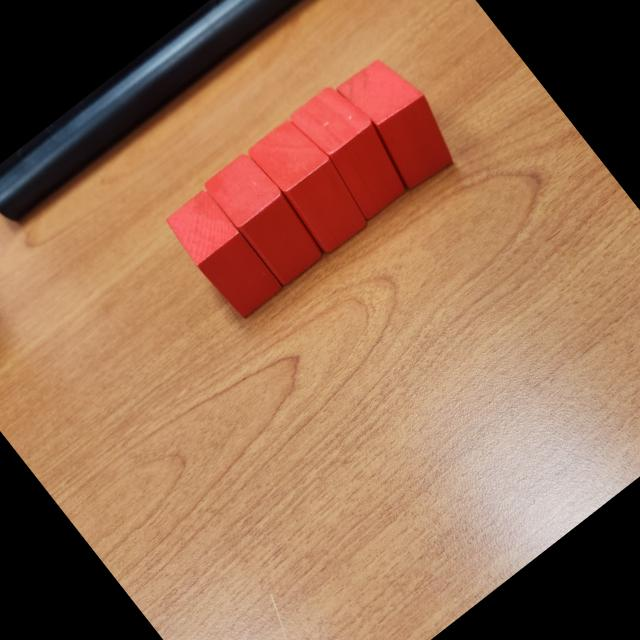red: (331, 48, 468, 194), (245, 112, 379, 259), (286, 77, 421, 222), (198, 143, 330, 290), (161, 185, 286, 323)
